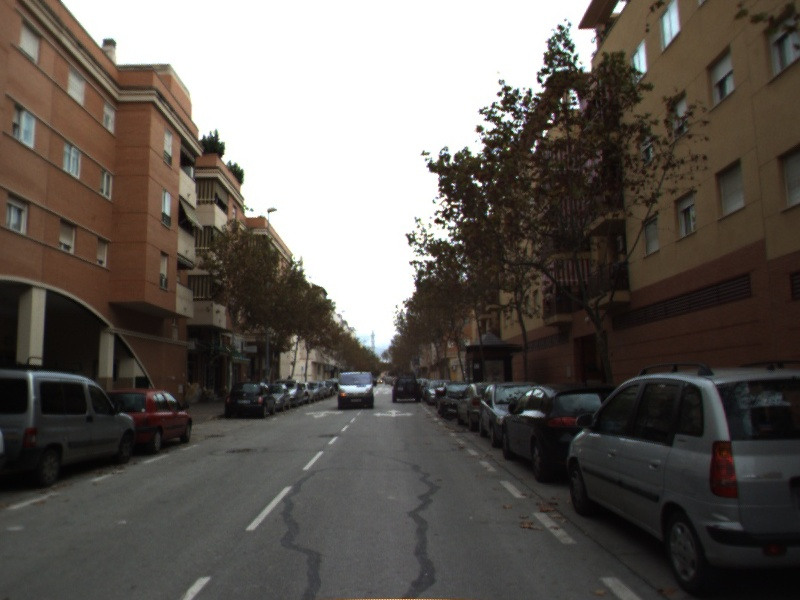STRAIGHT_LEFT_RIGHT: (371, 407, 416, 419)
